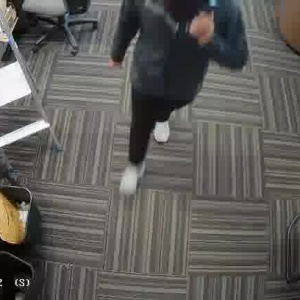person: (110, 0, 249, 202)
